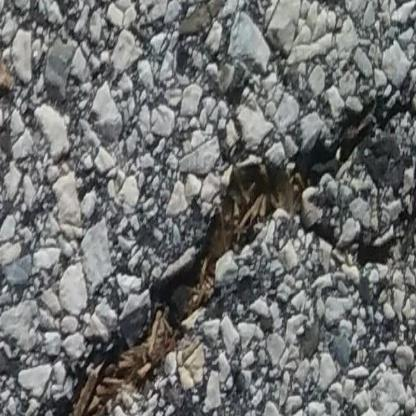Cracks: (0, 80, 416, 416)
